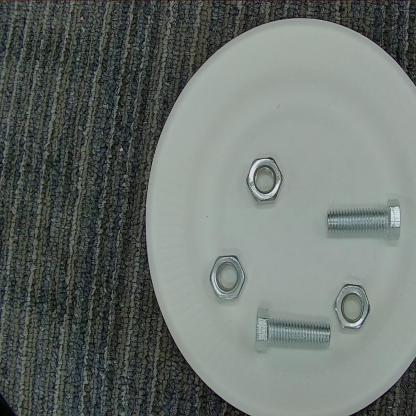FOD: (252, 304, 339, 360), (326, 191, 408, 250), (204, 248, 252, 306), (244, 150, 288, 206), (334, 281, 378, 334)
